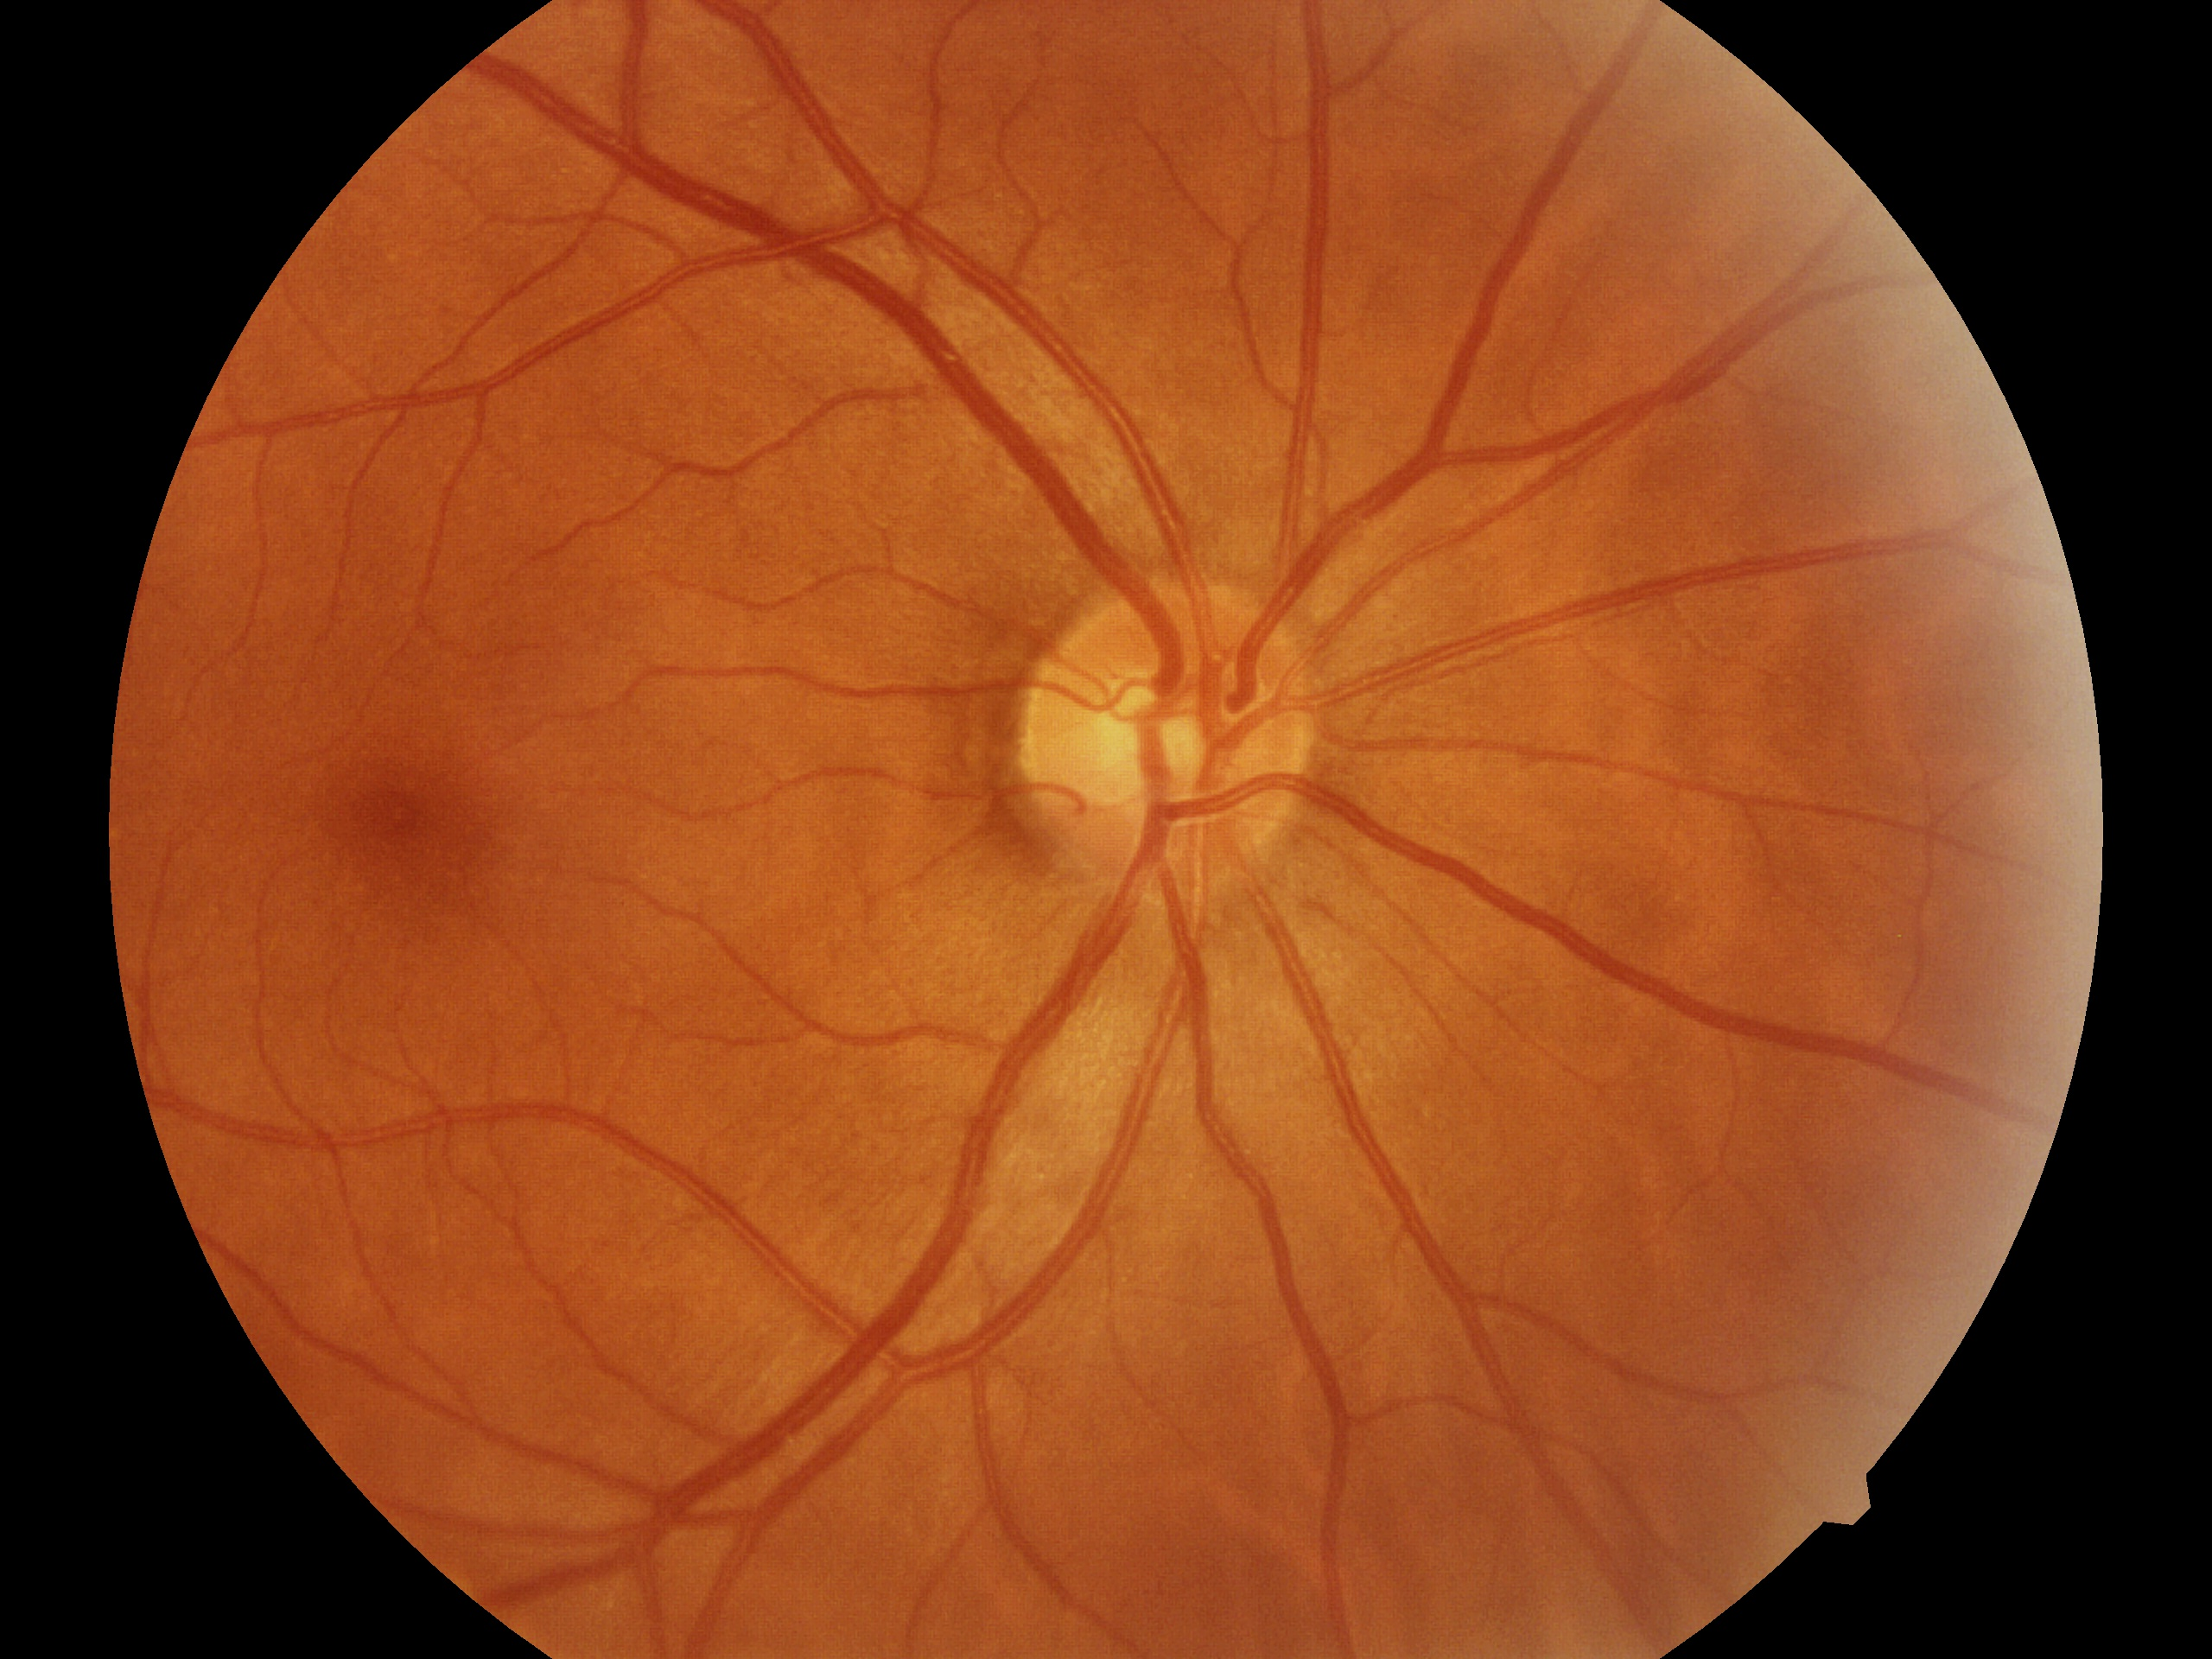Hemorrhages: (331, 718, 500, 960)
Optic-Disc: (1035, 545, 1327, 934)
Venules: (620, 105, 1083, 504), (685, 1075, 975, 1561)
